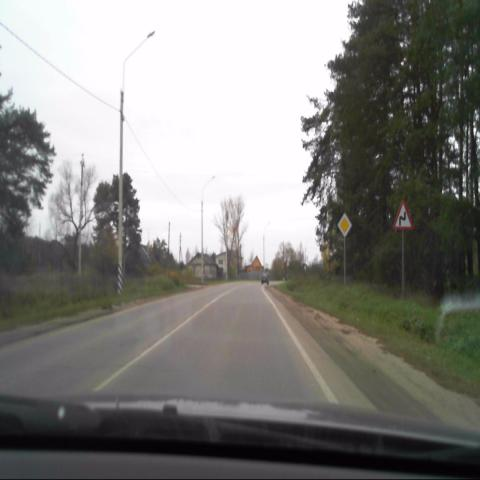1_12: (394, 201, 414, 232)
